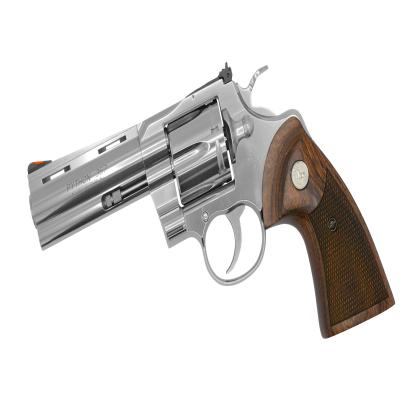handgun: (27, 63, 400, 339)
